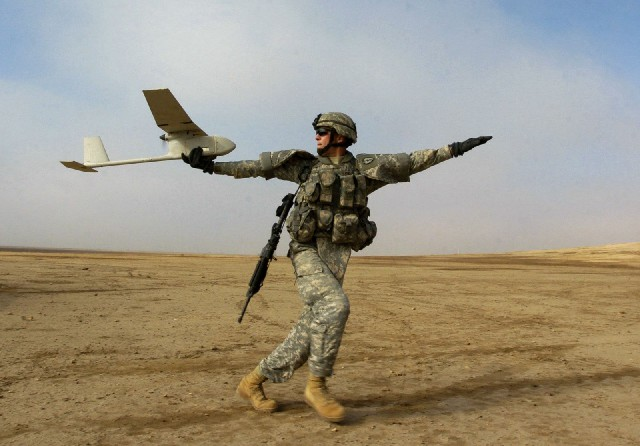maybay_khongnguoilai: (56, 88, 235, 172)
